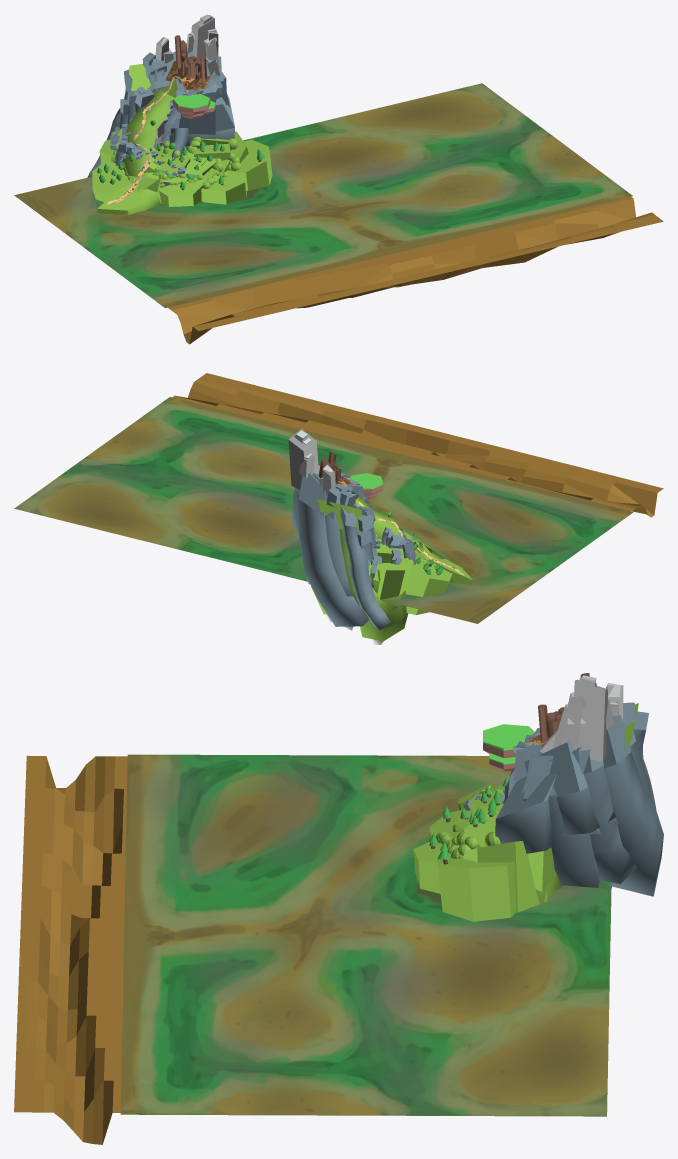
The model's file is TerrenoUR.glb.
The picture shows the model from 3 angles, top to bottom: view 1: azimuth 30°, elevation 25°; view 2: azimuth 150°, elevation 25°; view 3: azimuth 270°, elevation 25°; orthographic projection. The views are drawn at different scales.
Visible parts, largest first — view 1: Plano.001, model, Plano, GrassPlatform_Cylinder.001; view 2: Plano.001, model, Plano, GrassPlatform_Cylinder.001; view 3: Plano.001, Plano, model, GrassPlatform_Cylinder.001.
Boxes of the visible parts, x1,y1,x2,y2 form: Plano.001: (14, 83, 632, 308); model: (87, 14, 272, 214); Plano: (168, 197, 663, 344); GrassPlatform_Cylinder.001: (173, 94, 210, 114); Plano.001: (14, 397, 633, 623); model: (288, 429, 472, 644); Plano: (172, 373, 663, 517); GrassPlatform_Cylinder.001: (350, 473, 383, 495); Plano.001: (120, 754, 611, 1116); Plano: (14, 755, 127, 1144); model: (413, 673, 663, 921); GrassPlatform_Cylinder.001: (483, 724, 534, 757).
Bounding box in the file's own units: 56.9 × 25.72 × 43.18.
13 materials, 1 textured.
